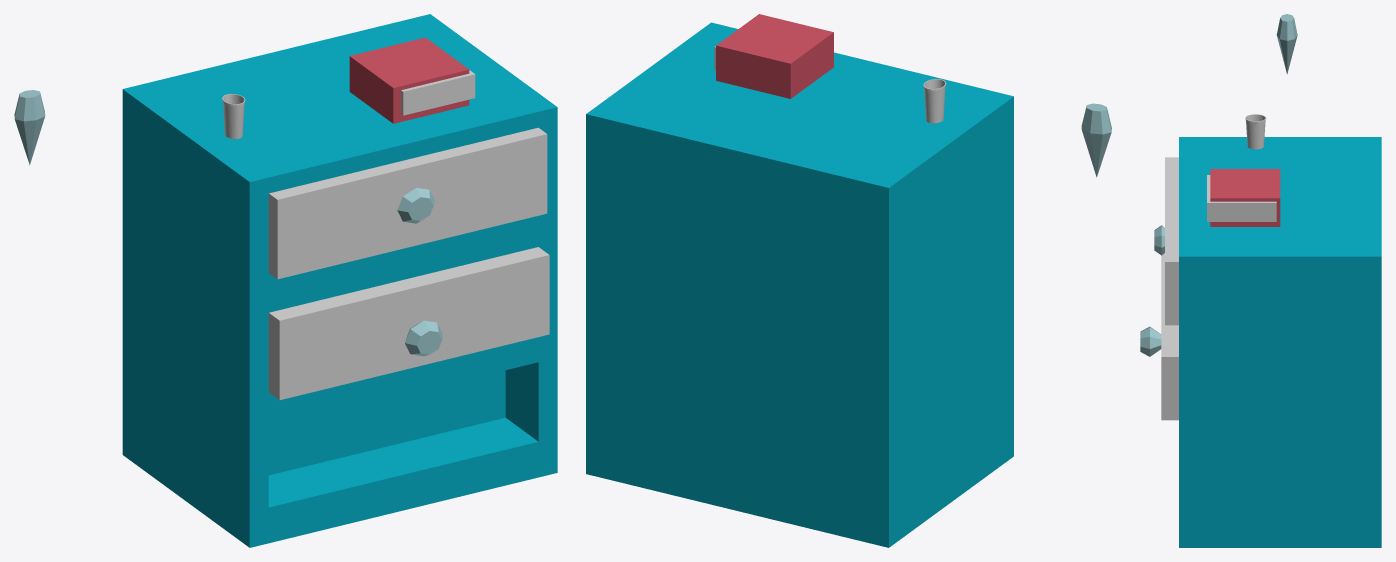
File: PRO-C149.glb
The picture shows the model from 3 angles, left to right: view 1: azimuth 30°, elevation 25°; view 2: azimuth 150°, elevation 25°; view 3: azimuth 270°, elevation 25°; orthographic projection. The views are drawn at different scales.
Parts seen in each view (by area): view 1: Mesh_Mesh_head_geo.001_lambert2SG.001; view 2: Mesh_Mesh_head_geo.001_lambert2SG.001; view 3: Mesh_Mesh_head_geo.001_lambert2SG.001.
Part boxes in pixels (x1,y1,x2,y2): Mesh_Mesh_head_geo.001_lambert2SG.001: [14, 14, 557, 547]; Mesh_Mesh_head_geo.001_lambert2SG.001: [586, 14, 1111, 547]; Mesh_Mesh_head_geo.001_lambert2SG.001: [1140, 14, 1381, 547].
Size of the model in its own units: 125 by 111 by 69.
